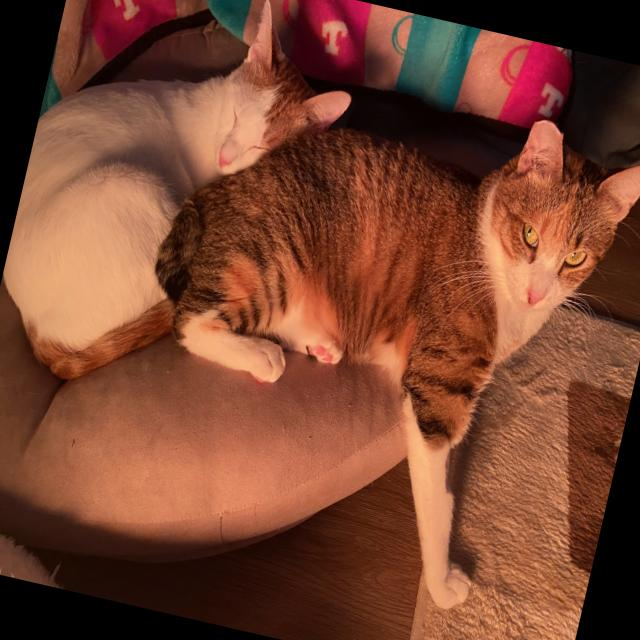cat1: (0, 0, 366, 440)
cat2: (195, 70, 640, 496)
